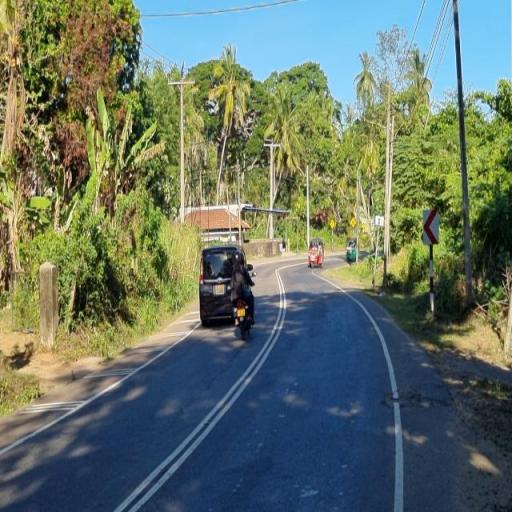double_white_line: (110, 260, 290, 512)
